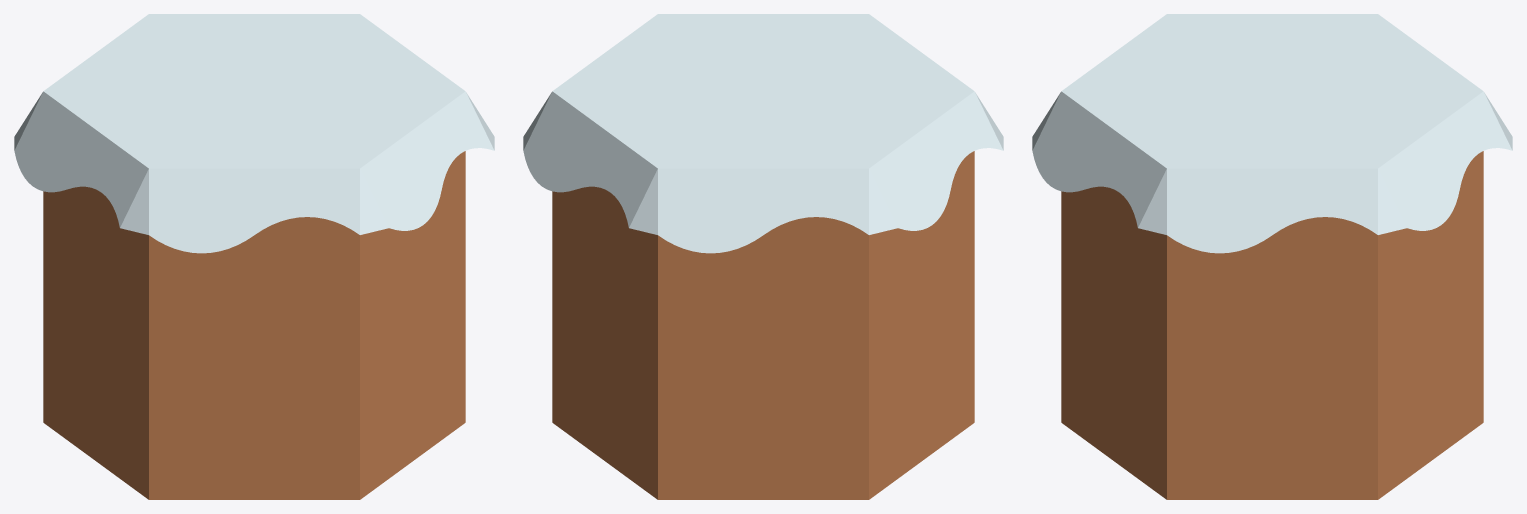
Rendered from blockSnowHexagon.dae.
The picture shows the model from 3 angles, left to right: view 1: azimuth 30°, elevation 25°; view 2: azimuth 150°, elevation 25°; view 3: azimuth 270°, elevation 25°; orthographic projection.
Parts seen in each view (by area): view 1: blockSnowHexagon; view 2: blockSnowHexagon; view 3: blockSnowHexagon.
Part boxes in pixels (x1,y1,x2,y2): blockSnowHexagon: (14,14,494,499); blockSnowHexagon: (523,14,1003,499); blockSnowHexagon: (1032,14,1512,499).
Size of the model in its own units: 1.23 by 1 by 1.31.
